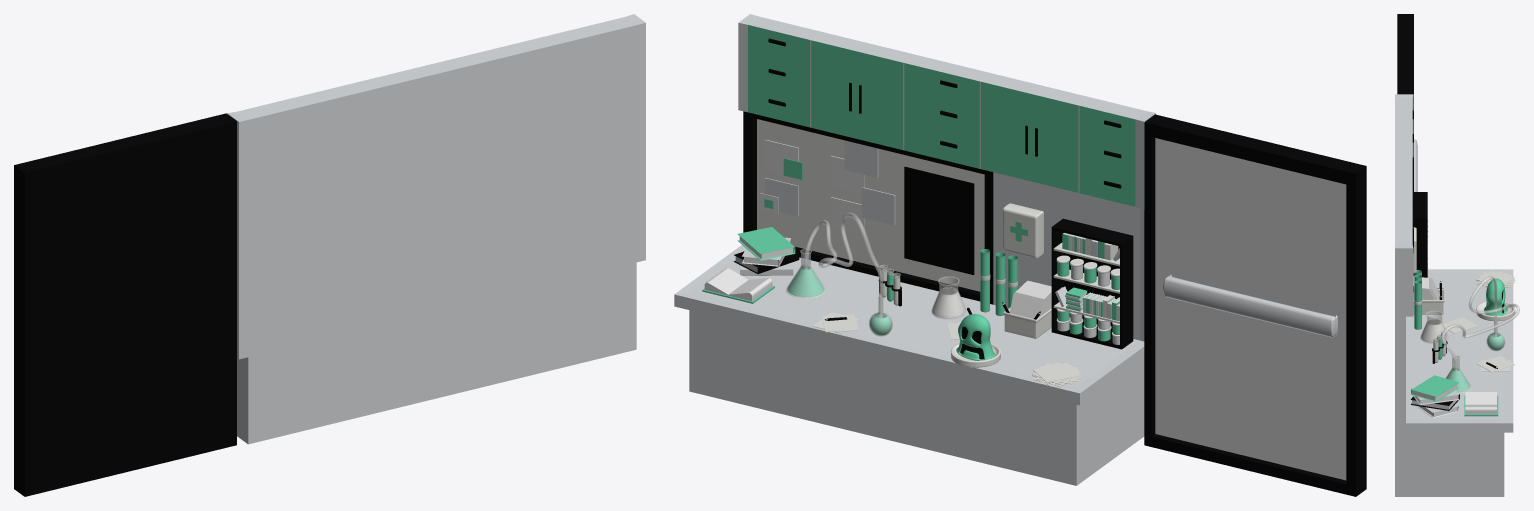
Rendered from chemistry lab.fbx.
3 renders of one model, left to right at view 1: azimuth 30°, elevation 25°; view 2: azimuth 150°, elevation 25°; view 3: azimuth 270°, elevation 25°, orthographic. The views are drawn at different scales.
Parts seen in each view (by area): view 1: table, door; view 2: table, door, pPlane30, bookcase1, pCube12, first_aid_kit, pCube13, slime_monster, curvy_tube, first_aid_kit44, polySurface5, pPlane29 (+9 smaller); view 3: table, door, bookcase1, curvy_tube, pCube13, first_aid_kit44, slime_monster, polySurface5, polySurface1, cardboard_box, polySurface6, long_tube2 (+13 smaller).
Part boxes in pixels (<box>): table: <box>227,14,645,444</box>; door: <box>14,113,236,496</box>; table: <box>674,14,1155,485</box>; door: <box>1144,114,1366,496</box>; pPlane30: <box>904,166,974,274</box>; bookcase1: <box>1051,218,1133,349</box>; pCube12: <box>1163,274,1337,337</box>; first_aid_kit: <box>1003,203,1043,258</box>; pCube13: <box>702,268,774,303</box>; slime_monster: <box>956,314,995,360</box>; curvy_tube: <box>804,212,882,317</box>; first_aid_kit44: <box>737,227,795,260</box>; polySurface5: <box>931,276,966,319</box>; pPlane29: <box>861,187,895,225</box>; table: <box>1395,94,1513,496</box>; door: <box>1397,14,1413,191</box>; bookcase1: <box>1412,192,1427,277</box>; curvy_tube: <box>1441,276,1519,370</box>; pCube13: <box>1464,391,1498,416</box>; first_aid_kit44: <box>1411,375,1458,401</box>; slime_monster: <box>1484,278,1507,315</box>; polySurface5: <box>1420,310,1448,343</box>; polySurface1: <box>1446,354,1471,393</box>; cardboard_box: <box>1413,287,1444,314</box>; polySurface6: <box>1421,319,1447,342</box>; long_tube2: <box>1414,280,1422,329</box>.
Size of the model in its own units: 33.05 by 16.55 by 7.43.
